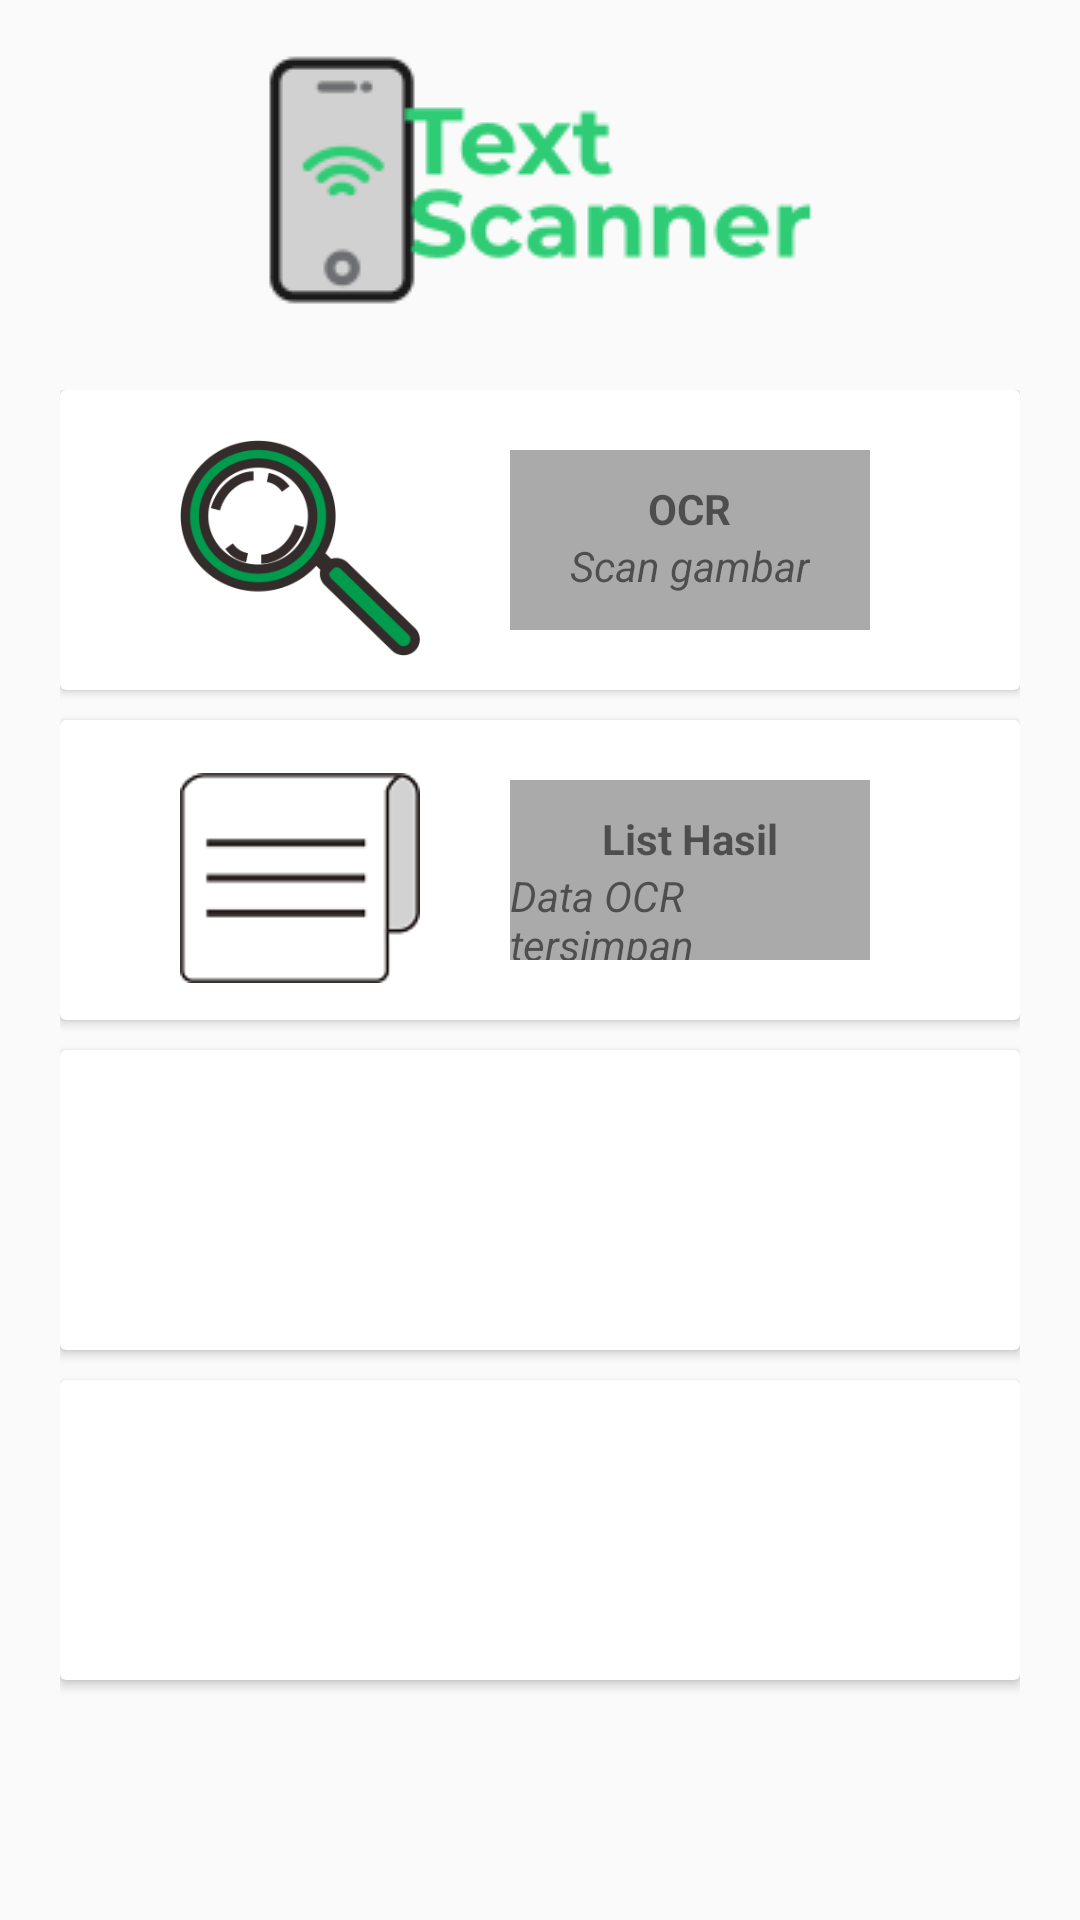

Icons on this 1080 x 1920 Android screen, each with the point to tap as [x,y]:
list: [300,878]
